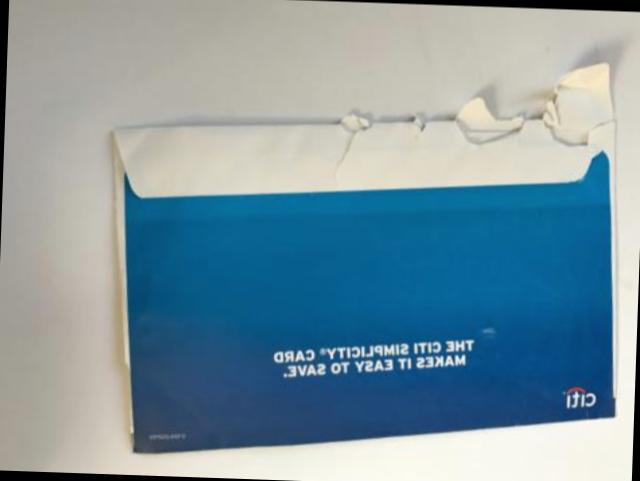cardboard paper: (116, 62, 616, 449)
